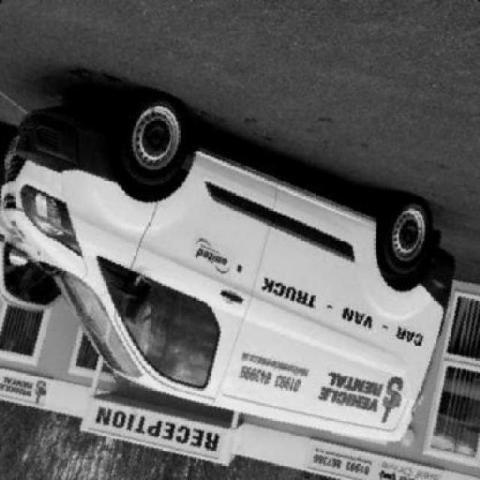van: (2, 89, 454, 442)
